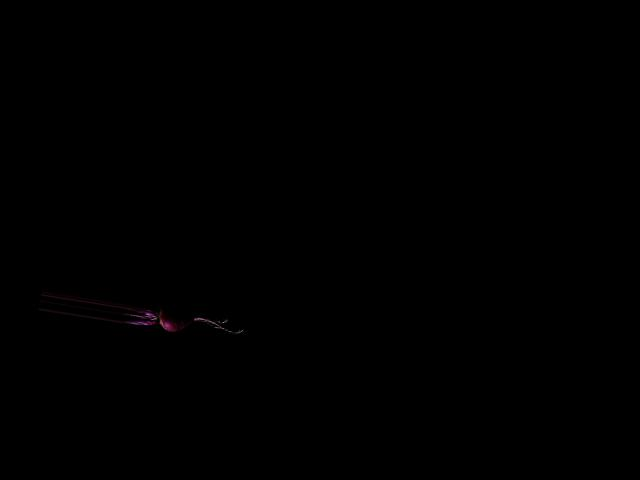beet: (121, 292, 246, 344)
